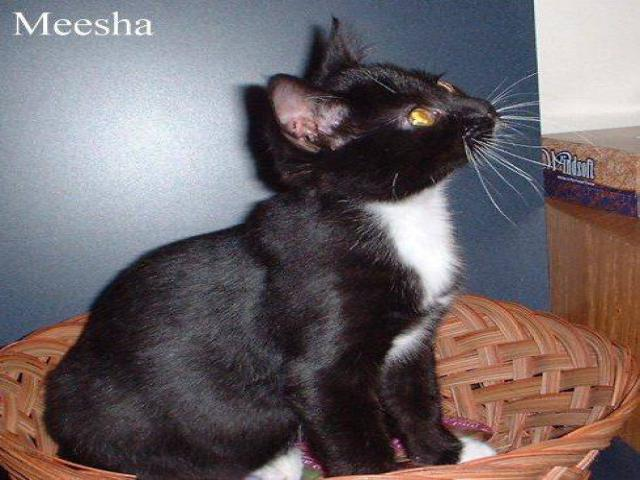cat: (49, 14, 517, 476)
